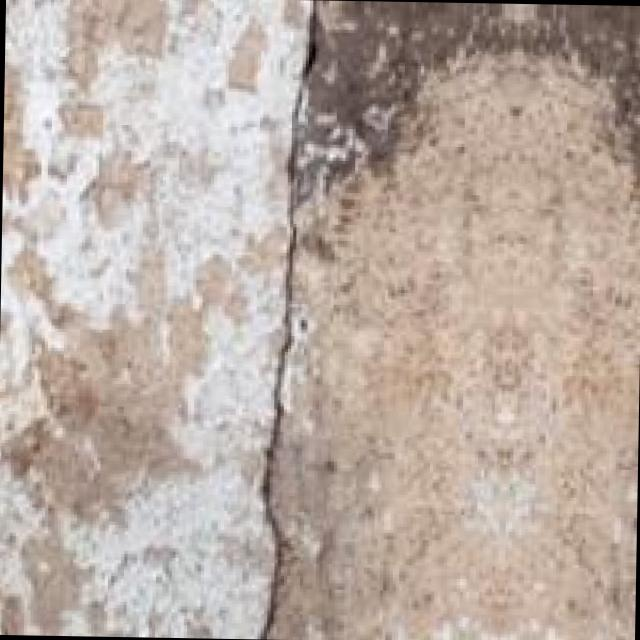crack: (247, 0, 351, 637)
